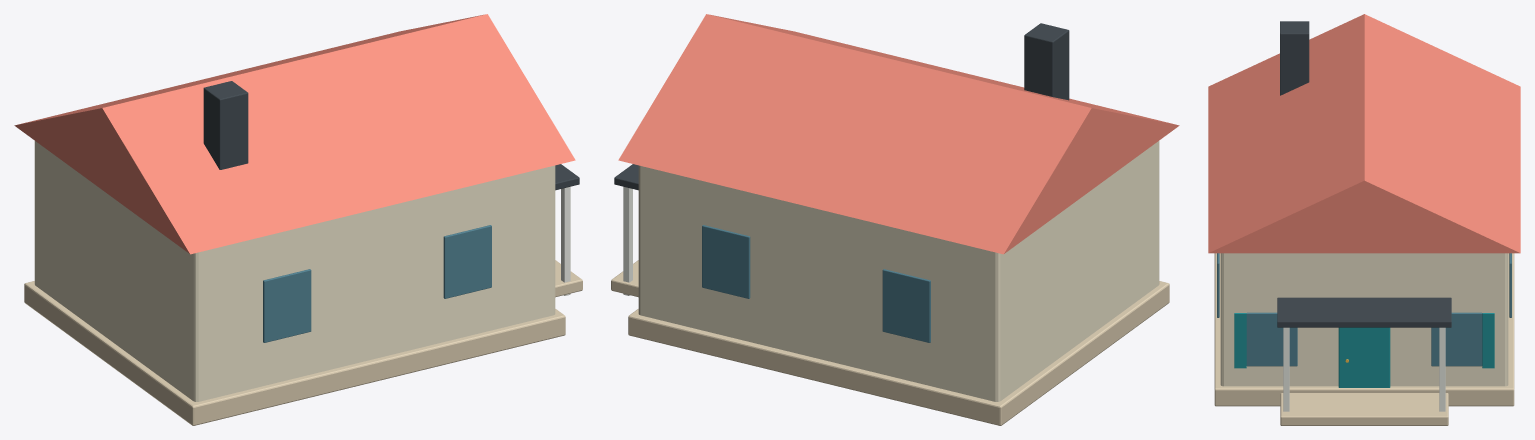
File: House.fbx
3 views of the same model, side by side, from view 1: azimuth 30°, elevation 25°; view 2: azimuth 150°, elevation 25°; view 3: azimuth 270°, elevation 25° (orthographic). The views are drawn at different scales.
Visible parts, largest first — view 1: House; view 2: House; view 3: House.
Part boxes in pixels (x1=…): House: x1=14, y1=14, x2=582, y2=425; House: x1=611, y1=14, x2=1179, y2=425; House: x1=1208, y1=14, x2=1520, y2=425.
Bounding box in the file's own units: 1080 × 678 × 760.
